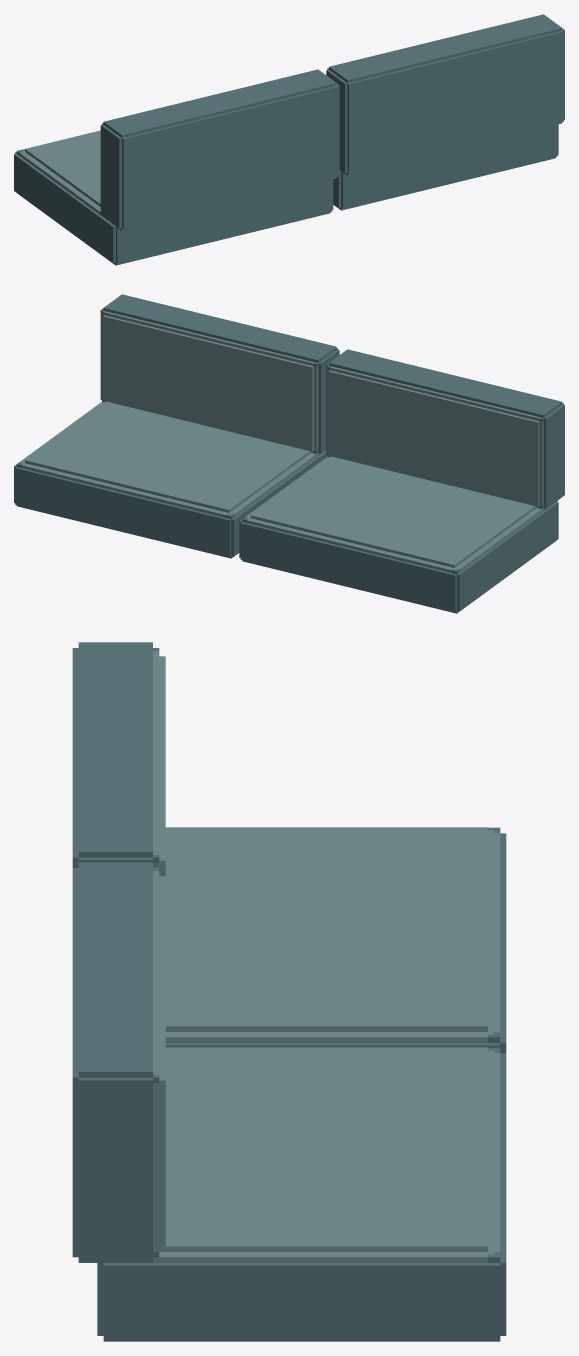
3 renders of one model, top to bottom at view 1: azimuth 30°, elevation 25°; view 2: azimuth 150°, elevation 25°; view 3: azimuth 270°, elevation 25°, orthographic. The views are drawn at different scales.
Parts seen in each view (by area): view 1: 沙发软垫靠背; view 2: 沙发软垫靠背; view 3: 沙发软垫靠背.
Part boxes in pixels (x1,y1,x2,y2): 沙发软垫靠背: (14,14,564,265); 沙发软垫靠背: (14,294,564,613); 沙发软垫靠背: (72,642,506,1341).
Bounding box in the file's own units: 1.66 × 0.48 × 0.7.
Materials: 2 (2 with a texture image).
